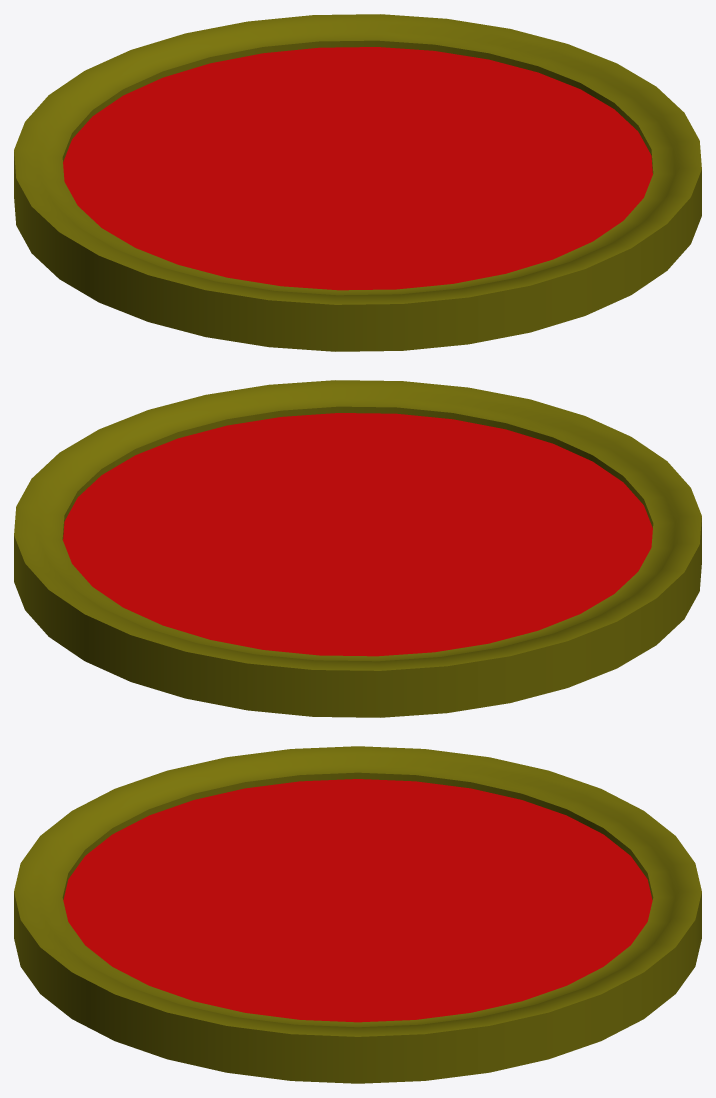
Rendered from coin.fbx.
3 views of the same model, one above another, from view 1: azimuth 30°, elevation 25°; view 2: azimuth 150°, elevation 25°; view 3: azimuth 270°, elevation 25° (orthographic).
Parts seen in each view (by area): view 1: Circle; view 2: Circle; view 3: Circle.
Part boxes in pixels (x1,y1,x2,y2): Circle: [14, 14, 701, 351]; Circle: [14, 380, 701, 717]; Circle: [14, 746, 701, 1083].
Size of the model in its own units: 6 by 0.4505 by 6.
